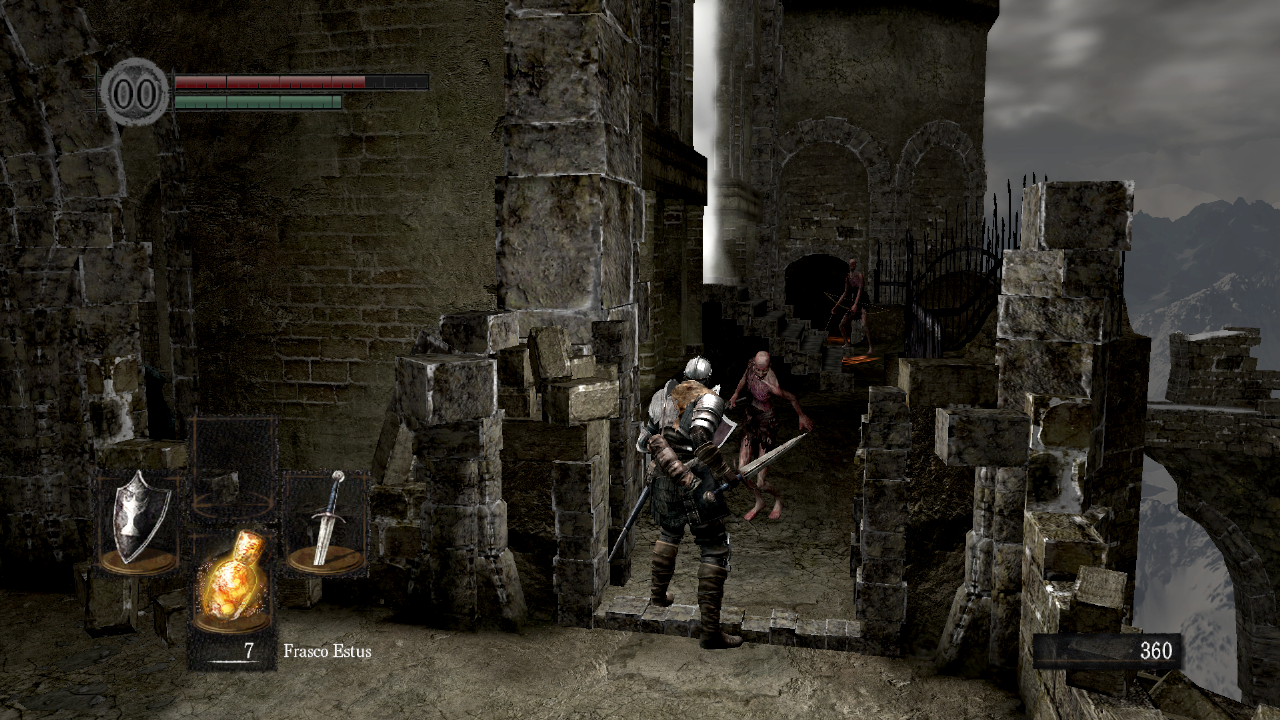hollow: (725, 351, 814, 521), (824, 259, 890, 355)
player: (608, 354, 808, 648)
